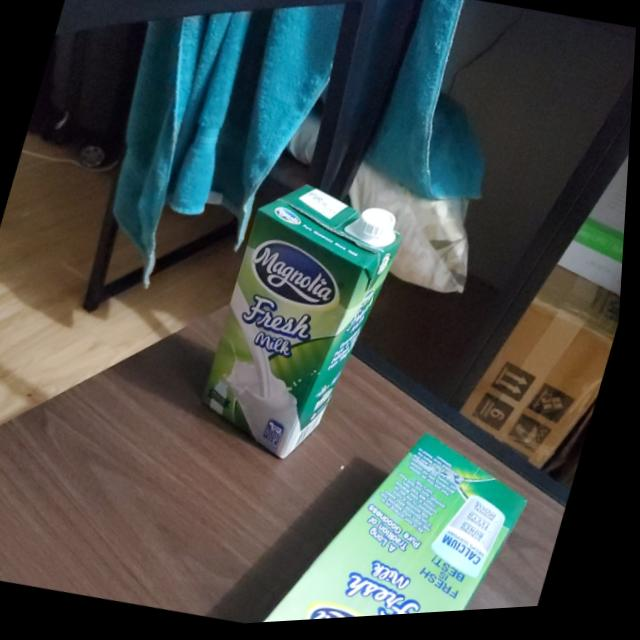milk: (183, 175, 414, 487), (265, 405, 547, 626)
